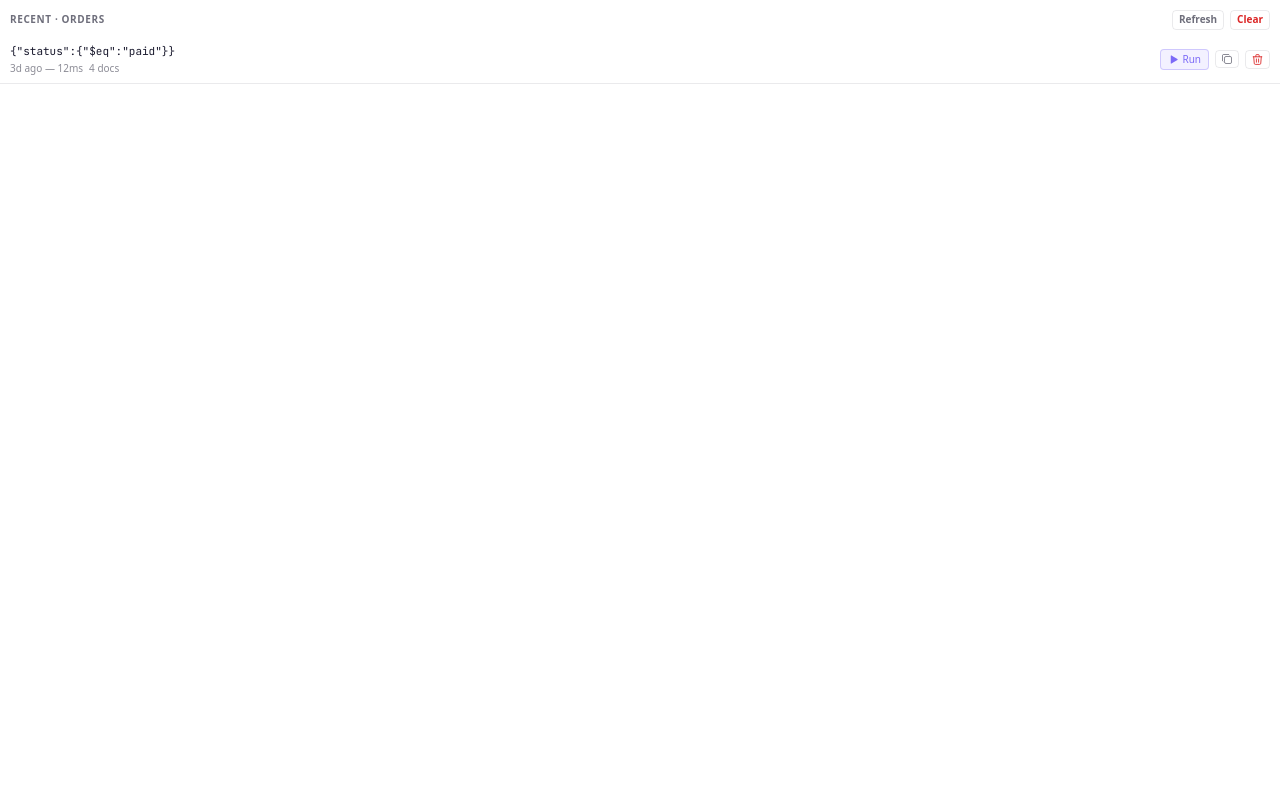
Recent can delete a row and clear its history › cancelling the per-row delete deletes nothing
This screenshot has width=1280, height=800.
What coordinates should you click on to do the following:
click the button named "Delete {\"status\":{\"$eq\":\"paid\"}} from recent history"
I would click on:
 (1258, 59)
Its box is [1245, 50, 1270, 69].
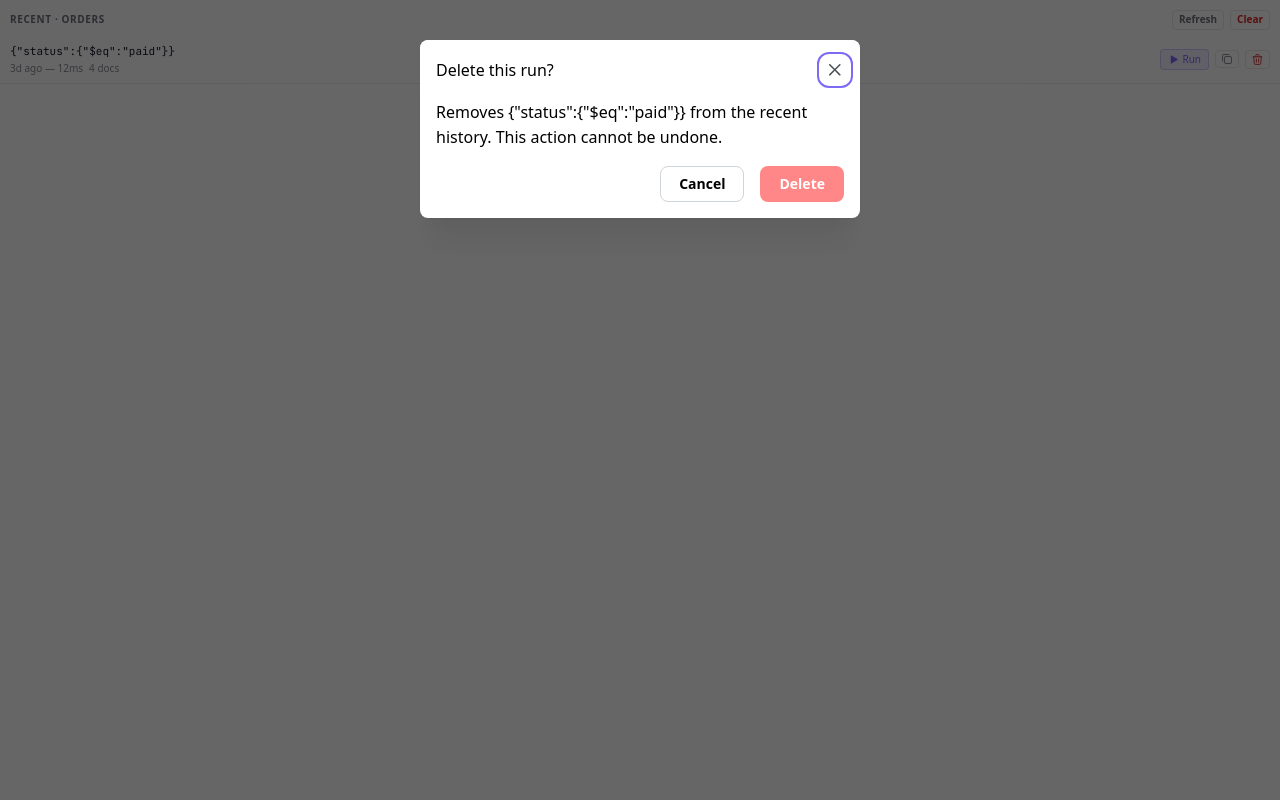
What coordinates should you click on to do the following:
click the button "Cancel"
I would click on:
 (702, 184)
Its box is [660, 166, 744, 202].
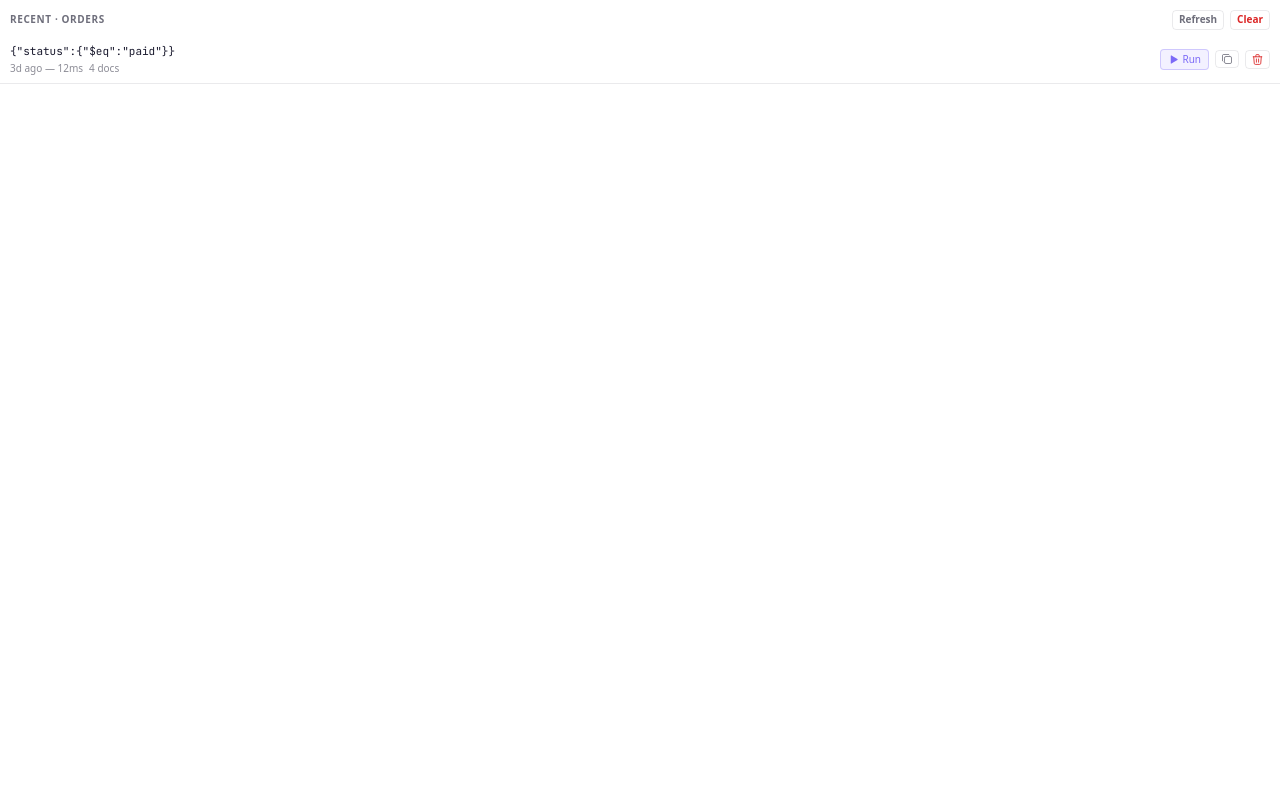
Result: the dialog is gone
